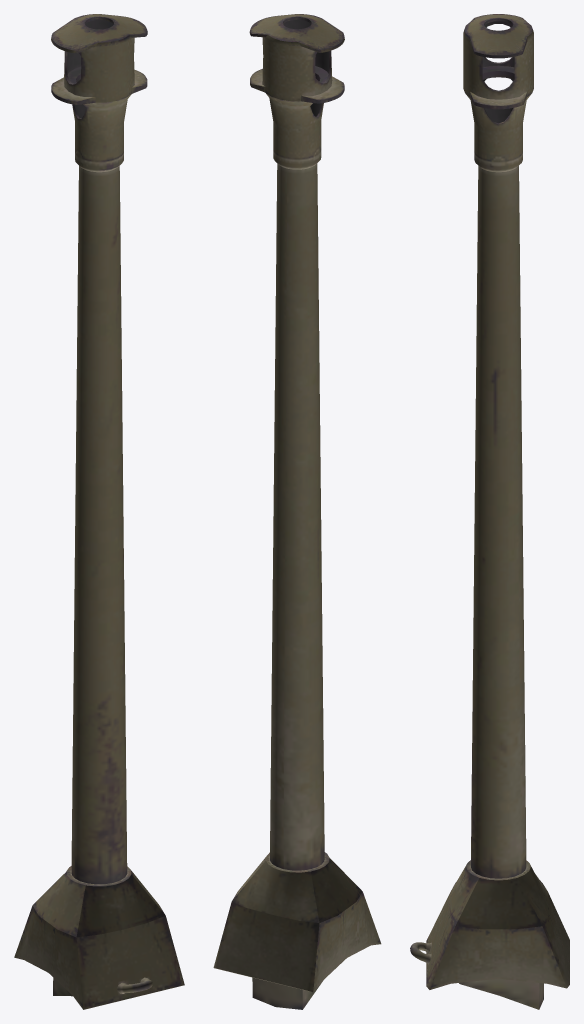
File: Gun_02.glb
The picture shows the model from 3 angles, left to right: view 1: azimuth 30°, elevation 25°; view 2: azimuth 150°, elevation 25°; view 3: azimuth 270°, elevation 25°; orthographic projection.
Visible parts, largest first — view 1: set_0_group_0; view 2: set_0_group_0; view 3: set_0_group_0.
Boxes of the visible parts, x1,y1,x2,y2 form: set_0_group_0: [14, 14, 184, 1009]; set_0_group_0: [213, 14, 381, 1009]; set_0_group_0: [410, 14, 569, 1009].
Size of the model in its own units: 0.3597 by 3.33 by 0.4948.
1 material, 1 textured.
